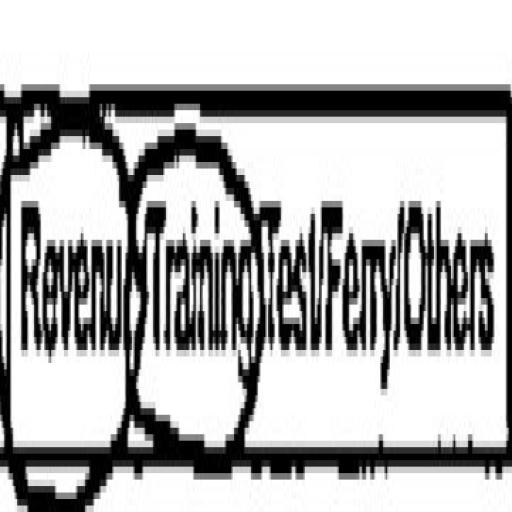check: (0, 45, 133, 512), (136, 40, 262, 512)
